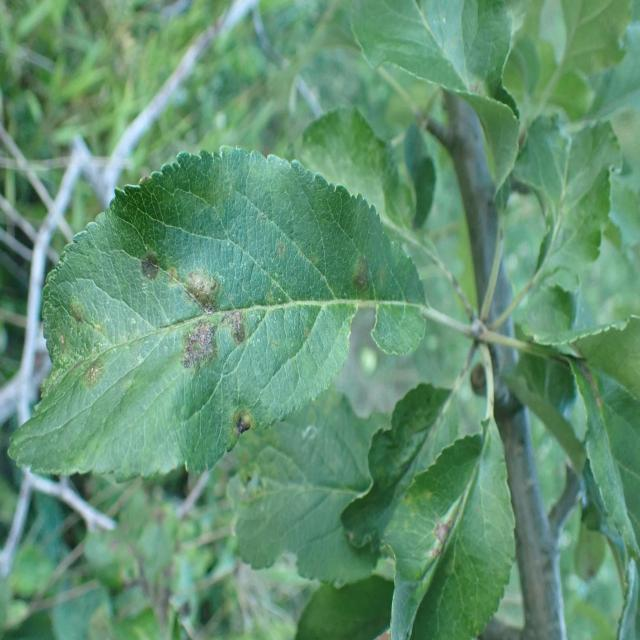scab: (20, 205, 400, 477)
